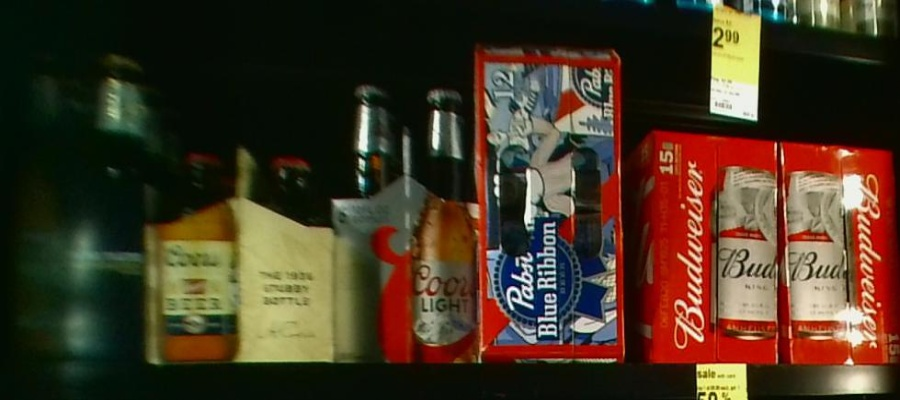bottle: (476, 44, 625, 363), (6, 54, 149, 358), (335, 82, 476, 362), (147, 149, 334, 358), (630, 130, 778, 354), (780, 144, 900, 365)
